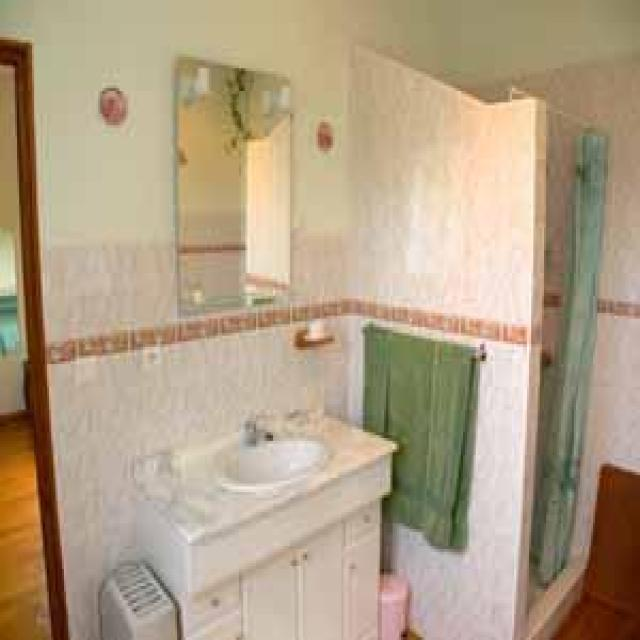curtains: (529, 128, 608, 586)
door: (0, 34, 68, 637)
faucet: (243, 415, 273, 444)
pots: (378, 572, 410, 637)
window: (171, 54, 292, 316)
